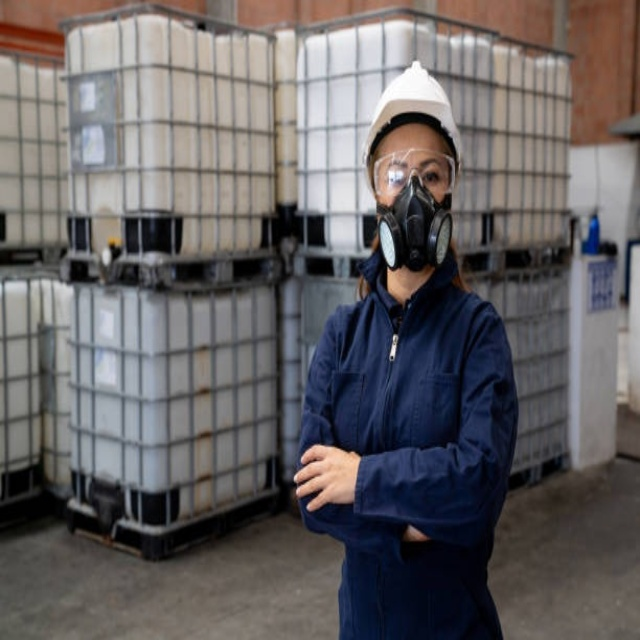Gafas: (371, 148, 458, 199)
Mascara: (375, 178, 454, 273)
Sin_guantes: (293, 443, 359, 512)
